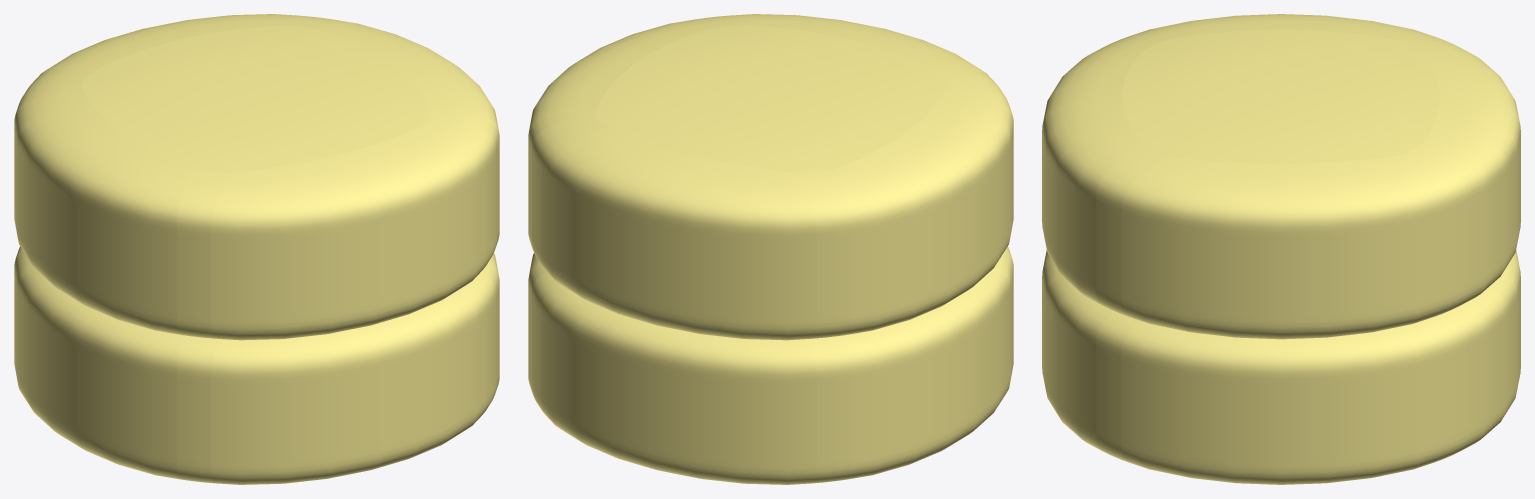
File: keyboard.glb
3 renders of one model, left to right at view 1: azimuth 30°, elevation 25°; view 2: azimuth 150°, elevation 25°; view 3: azimuth 270°, elevation 25°, orthographic.
Visible parts, largest first — view 1: Cube.003; view 2: Cube.003; view 3: Cube.003.
Boxes of the visible parts, x1,y1,x2,y2 form: Cube.003: (14, 14, 499, 484); Cube.003: (528, 14, 1013, 484); Cube.003: (1042, 14, 1520, 484).
Size of the model in its own units: 3.8 by 2.77 by 3.8.
